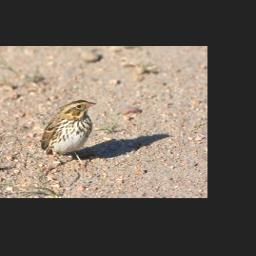Sparrow: (39, 98, 99, 176)
